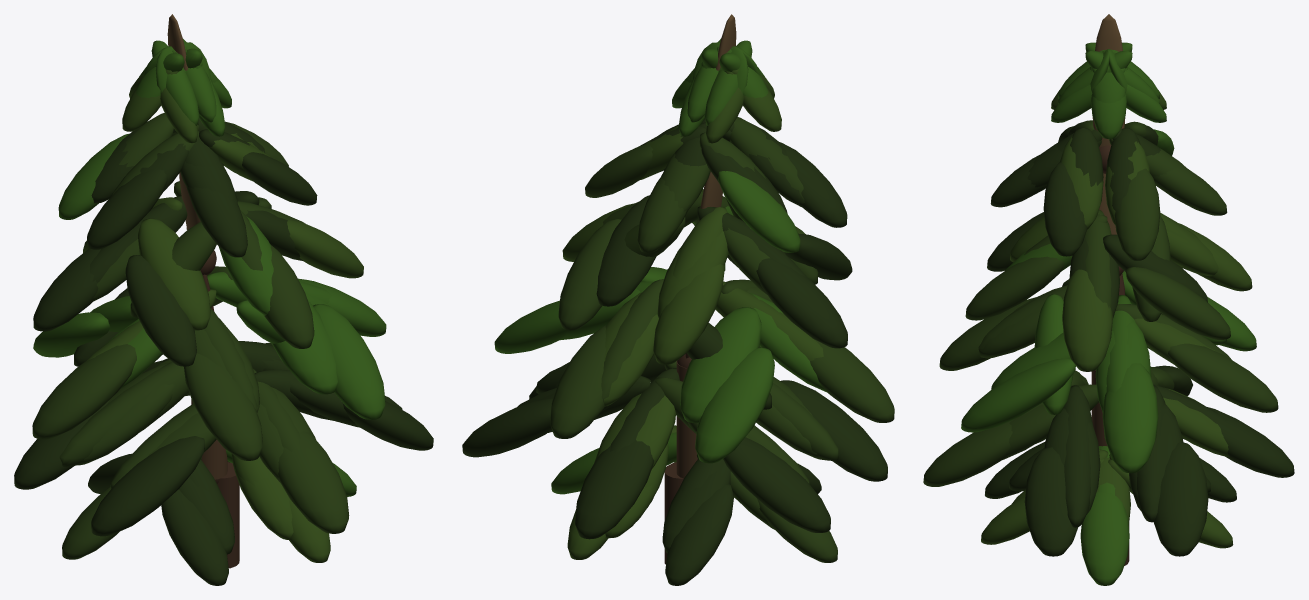
File: CMU3DRMCBushm1.glb
3 views of the same model, side by side, from view 1: azimuth 30°, elevation 25°; view 2: azimuth 150°, elevation 25°; view 3: azimuth 270°, elevation 25° (orthographic). The views are drawn at different scales.
Visible parts, largest first — view 1: bough tier 4 needle cluster 2-1, bough tier 3 needle cluster 2-1, bough tier 3 needle cluster 3-1, bough tier 4 needle cluster 3-1, bough tier 2 needle cluster 3-1, bough tier 3 needle cluster 4-1, bough tier 2 needle cluster 3-0, bough tier 5 needle cluster 2-1, bough tier 4 short needle twig 1, bough tier 1 needle cluster 3-1, bough tier 2 needle cluster 4-1, bough tier 2 needle cluster 2-1 (+51 smaller); view 2: bough tier 3 needle cluster 1-1, bough tier 4 needle cluster 1-1, bough tier 4 needle cluster 0-1, bough tier 3 needle cluster 1-0, bough tier 2 needle cluster 2-1, bough tier 3 needle cluster 0-1, bough tier 2 needle cluster 1-1, bough tier 5 needle cluster 0-1, bough tier 3 needle cluster 2-1, bough tier 4 needle cluster 2-1, bough tier 1 needle cluster 2-1, bough tier 2 needle cluster 0-1 (+47 smaller); view 3: bough tier 3 needle cluster 5-1, bough tier 4 needle cluster 5-1, bough tier 3 needle cluster 4-1, bough tier 4 needle cluster 4-1, bough tier 3 needle cluster 0-1, bough tier 2 needle cluster 5-1, bough tier 5 needle cluster 4-1, bough tier 2 needle cluster 0-1, bough tier 2 needle cluster 4-1, bough tier 4 short needle twig 4, bough tier 4 needle cluster 3-1, bough tier 1 needle cluster 0-1 (+50 smaller).
Boxes of the visible parts, x1,y1,x2,y2 form: bough tier 4 needle cluster 2-1: (91, 436, 204, 536); bough tier 3 needle cluster 2-1: (32, 344, 136, 439); bough tier 3 needle cluster 3-1: (184, 353, 262, 460); bough tier 4 needle cluster 3-1: (278, 431, 349, 533); bough tier 2 needle cluster 3-1: (125, 255, 196, 366); bough tier 3 needle cluster 4-1: (313, 304, 385, 419); bough tier 2 needle cluster 3-0: (138, 218, 210, 330); bough tier 5 needle cluster 2-1: (161, 489, 228, 585); bough tier 4 short needle twig 1: (59, 362, 188, 466); bough tier 1 needle cluster 3-1: (87, 169, 167, 249); bough tier 2 needle cluster 4-1: (264, 244, 314, 348); bough tier 2 needle cluster 2-1: (33, 248, 100, 331); bough tier 3 needle cluster 1-1: (695, 347, 774, 463); bough tier 4 needle cluster 1-1: (723, 437, 830, 532); bough tier 4 needle cluster 0-1: (575, 440, 653, 539); bough tier 3 needle cluster 1-0: (680, 307, 761, 423); bough tier 2 needle cluster 2-1: (756, 258, 847, 348); bough tier 3 needle cluster 0-1: (550, 325, 606, 438); bough tier 2 needle cluster 1-1: (653, 264, 724, 364); bough tier 5 needle cluster 0-1: (665, 484, 733, 585); bough tier 3 needle cluster 2-1: (810, 339, 894, 422); bough tier 4 needle cluster 2-1: (780, 380, 887, 481); bough tier 1 needle cluster 2-1: (718, 171, 800, 252); bough tier 2 needle cluster 0-1: (558, 219, 621, 330); bough tier 3 needle cluster 5-1: (1102, 363, 1158, 473); bough tier 4 needle cluster 5-1: (1153, 442, 1208, 556); bough tier 3 needle cluster 4-1: (961, 358, 1075, 432); bough tier 4 needle cluster 4-1: (1024, 447, 1077, 556); bough tier 3 needle cluster 0-1: (1167, 343, 1278, 412); bough tier 2 needle cluster 5-1: (1062, 269, 1112, 371); bough tier 5 needle cluster 4-1: (1080, 492, 1129, 585); bough tier 2 needle cluster 0-1: (1126, 267, 1230, 339); bough tier 2 needle cluster 4-1: (965, 256, 1064, 320); bough tier 4 short needle twig 4: (1064, 385, 1093, 527); bough tier 4 needle cluster 3-1: (923, 422, 1012, 486); bough tier 1 needle cluster 0-1: (1115, 168, 1160, 260).
Bounding box in the file's own units: 0.5517 × 0.7762 × 0.4963.
